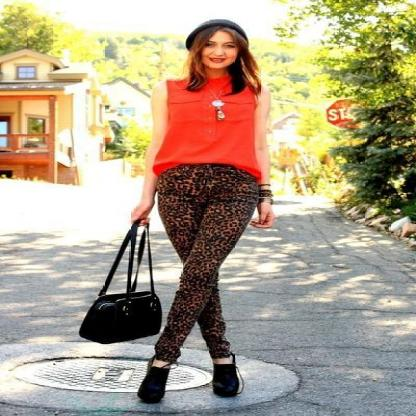bag: (79, 262, 161, 343)
hat: (186, 20, 248, 51)
pants: (138, 163, 272, 357)
shirt: (152, 75, 260, 174)
shoe: (138, 355, 240, 404)
